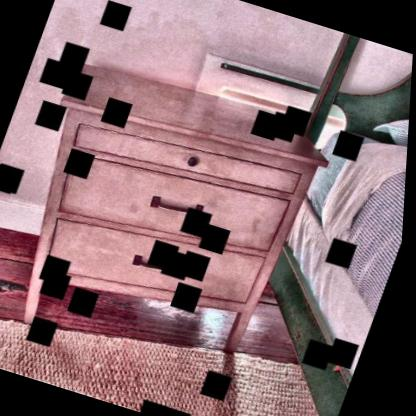Nightstand: (2, 58, 329, 357)
